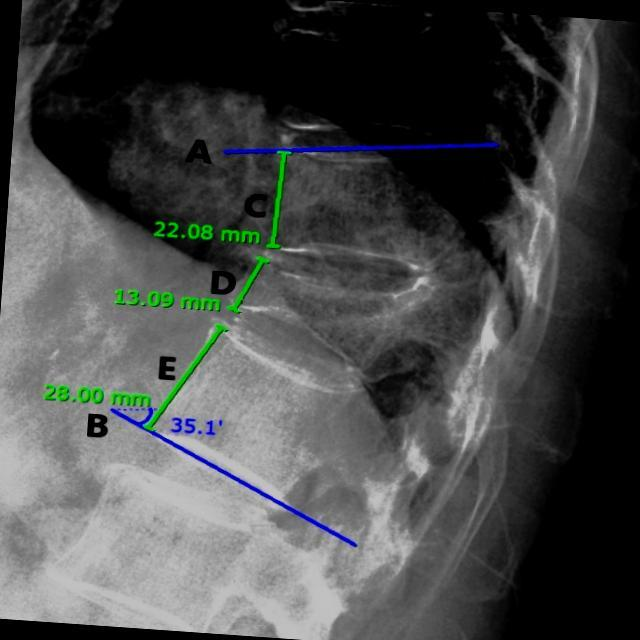Compression-Crush Fracutre: (232, 262, 404, 362)
